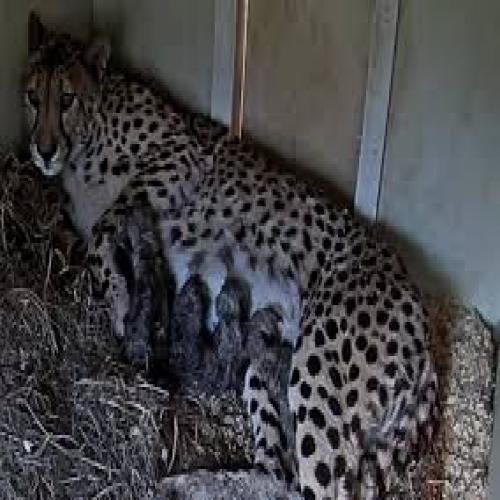cheetah-endangered: (20, 7, 440, 487)
